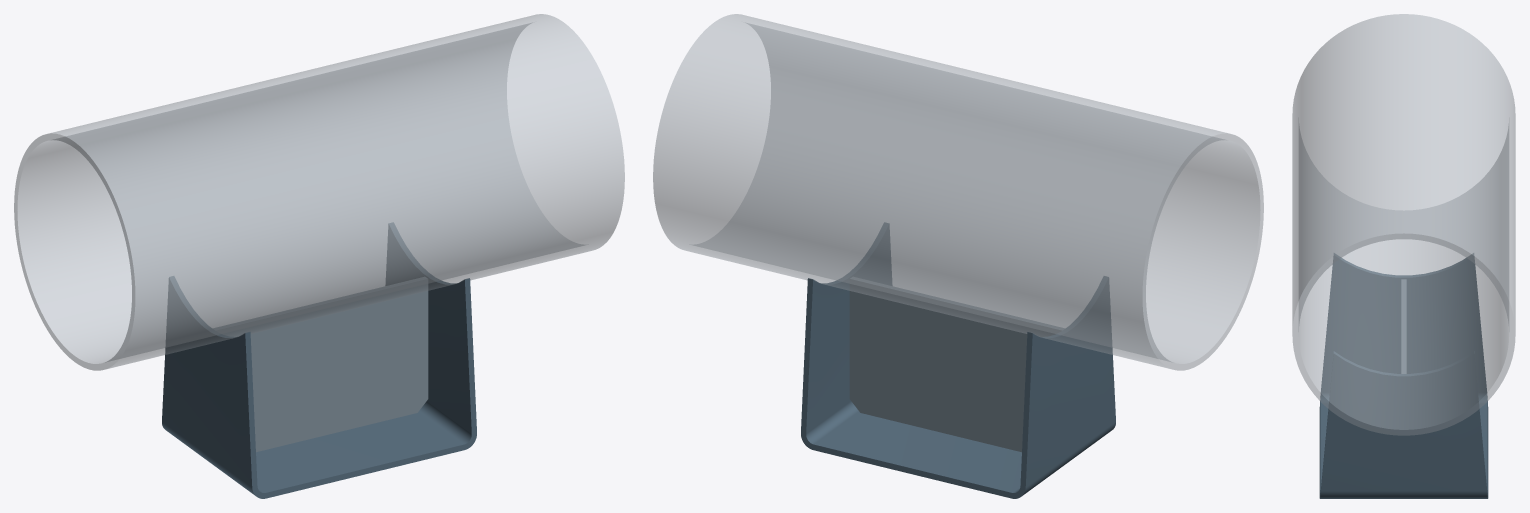
Rendered from TS-623.000-09-opora-dn159-H100-L170.glb.
The picture shows the model from 3 angles, left to right: view 1: azimuth 30°, elevation 25°; view 2: azimuth 150°, elevation 25°; view 3: azimuth 270°, elevation 25°; orthographic projection. The views are drawn at different scales.
Parts seen in each view (by area): view 1: truba, skoba, rebro; view 2: truba, skoba, rebro; view 3: truba, skoba, rebro.
Boxes of the visible parts, box(x1,y1,x2,y2) form: truba: box(14, 14, 624, 370); skoba: box(162, 222, 476, 498); rebro: box(213, 277, 428, 452); truba: box(653, 14, 1263, 370); skoba: box(801, 222, 1115, 498); rebro: box(849, 277, 1064, 452); truba: box(1292, 14, 1515, 435); skoba: box(1319, 253, 1488, 498); rebro: box(1401, 279, 1406, 373).
Size of the model in its own units: 370 by 259 by 159.
